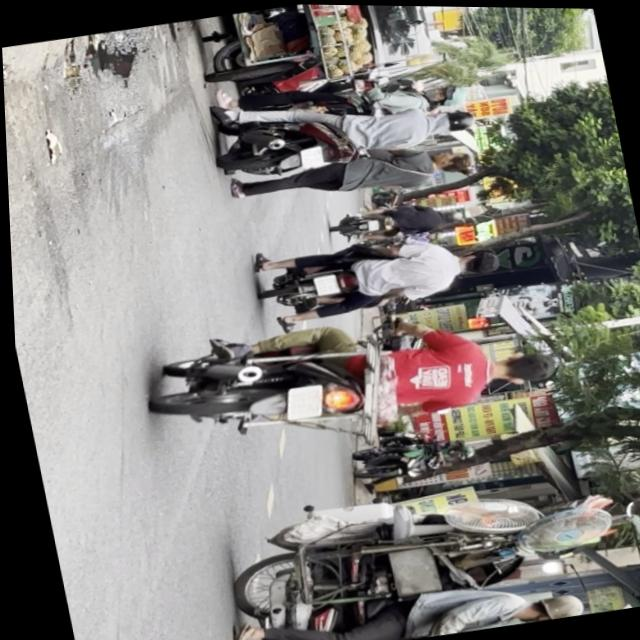helmet: (517, 588, 582, 622), (431, 105, 480, 135), (427, 79, 471, 109)
licenseplate: (140, 284, 566, 462), (214, 551, 587, 640), (206, 71, 488, 186), (247, 218, 508, 332)
motorcyclist: (486, 345, 557, 388), (452, 244, 500, 277)
nohelmet: (279, 382, 323, 421), (311, 271, 339, 295), (298, 145, 325, 168)
